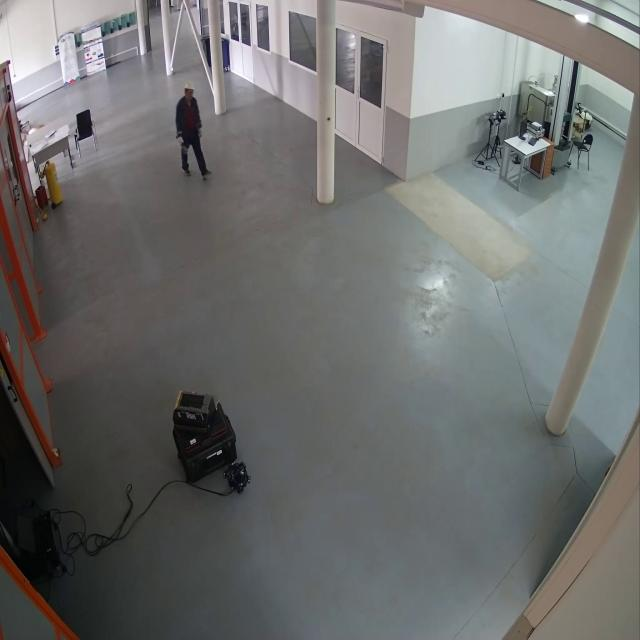Hardhat: (184, 80, 196, 92)
Person: (176, 76, 214, 180)
